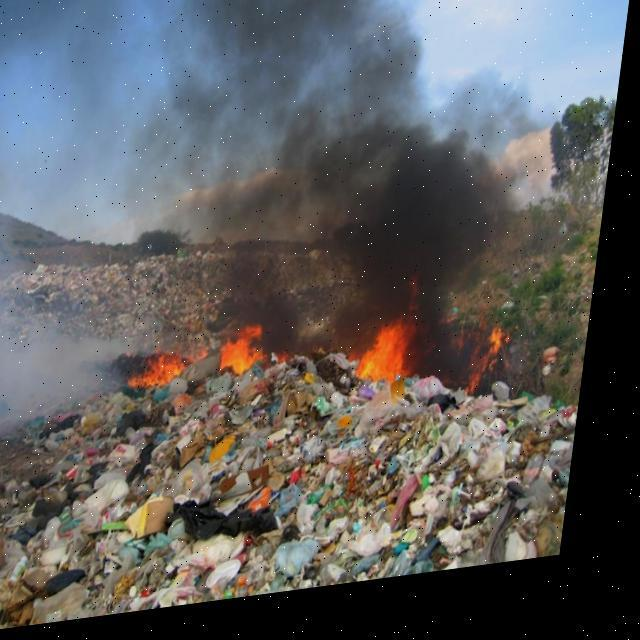Fire: (133, 322, 297, 399), (354, 316, 436, 404), (479, 330, 516, 398)
